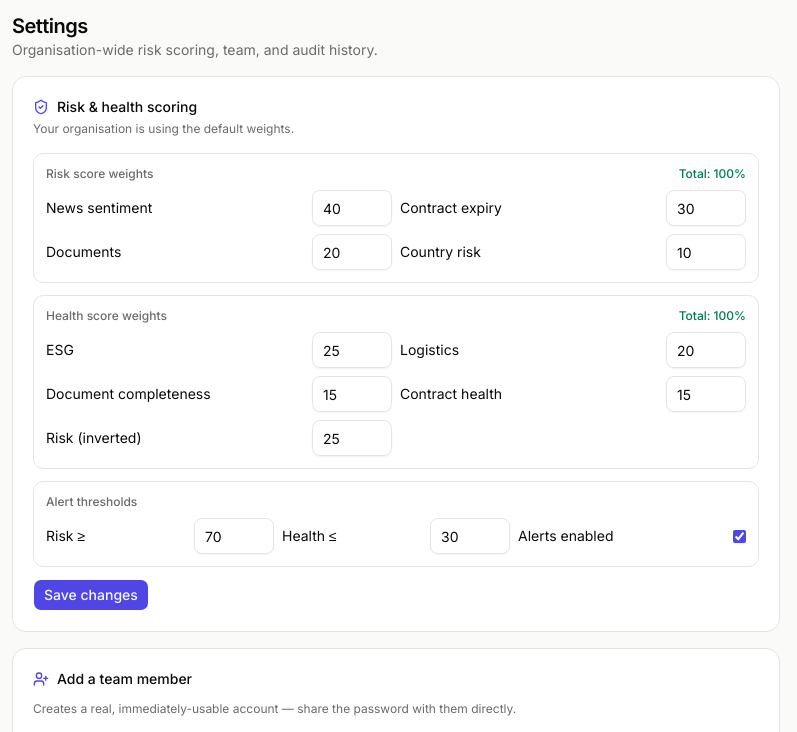
Test case: Settings > risk config weight-sum validation › the health-weights group is validated independently of the risk-weights group
Expected: the text "Total: 100%" is shown 2 times, [679,166,746,182]; [679,308,746,324]
Replace the text in the number field labelled "ESG" with "50" at coordinates (352, 350), box [312,332,392,368]
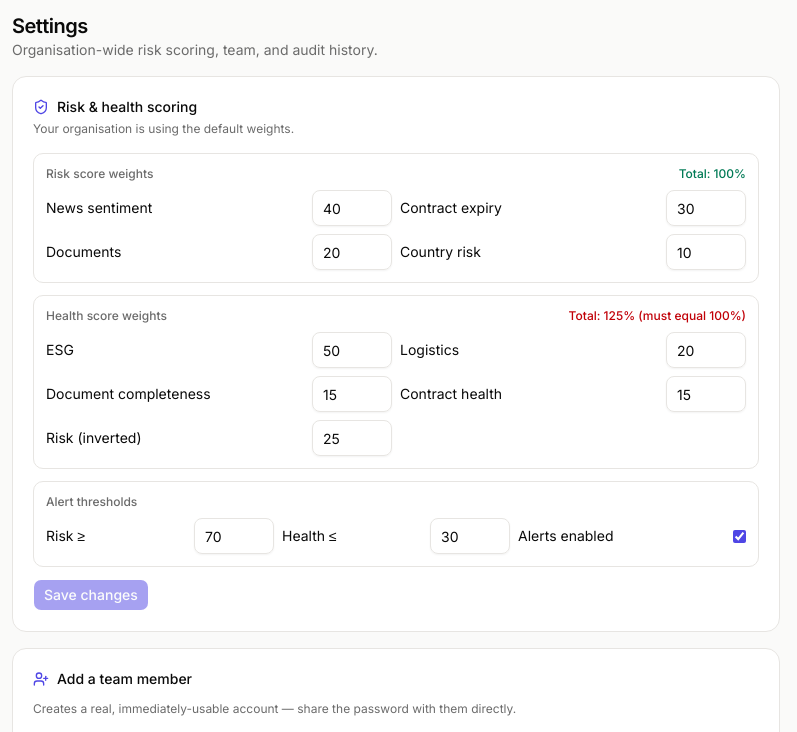
Expected: the button "Save changes" is disabled, [33,579,149,611]
